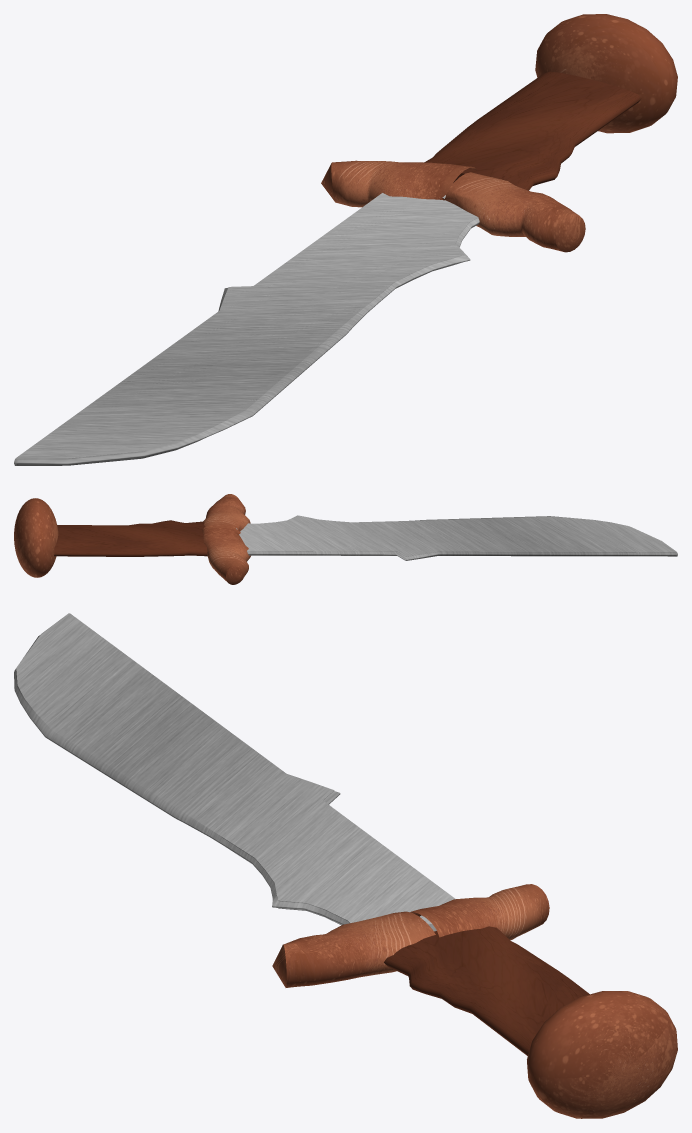
The model's file is Mitmor_Kniv.fbx.
The picture shows the model from 3 angles, top to bottom: view 1: azimuth 30°, elevation 25°; view 2: azimuth 150°, elevation 25°; view 3: azimuth 270°, elevation 25°; orthographic projection. The views are drawn at different scales.
Visible parts, largest first — view 1: polySurface3, polySurface1, polySurface4, polySurface2; view 2: polySurface3, polySurface1, polySurface4, polySurface2; view 3: polySurface3, polySurface2, polySurface1, polySurface4.
Part boxes in pixels (x1,y1,x2,y2): polySurface3: (14,193,479,465); polySurface1: (424,71,641,190); polySurface4: (321,160,585,252); polySurface2: (535,14,677,133); polySurface3: (236,515,677,560); polySurface1: (54,520,207,556); polySurface4: (202,494,250,584); polySurface2: (14,498,58,577); polySurface3: (14,613,455,931); polySurface2: (527,991,677,1118); polySurface1: (384,926,589,1055); polySurface4: (272,884,549,987).
Bounding box in the file's own units: 108 × 13.21 × 65.23.
